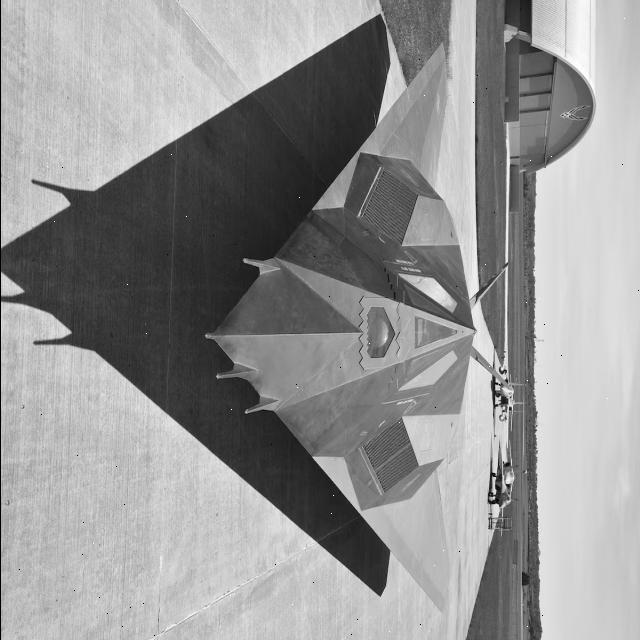F117: (166, 0, 512, 640)
